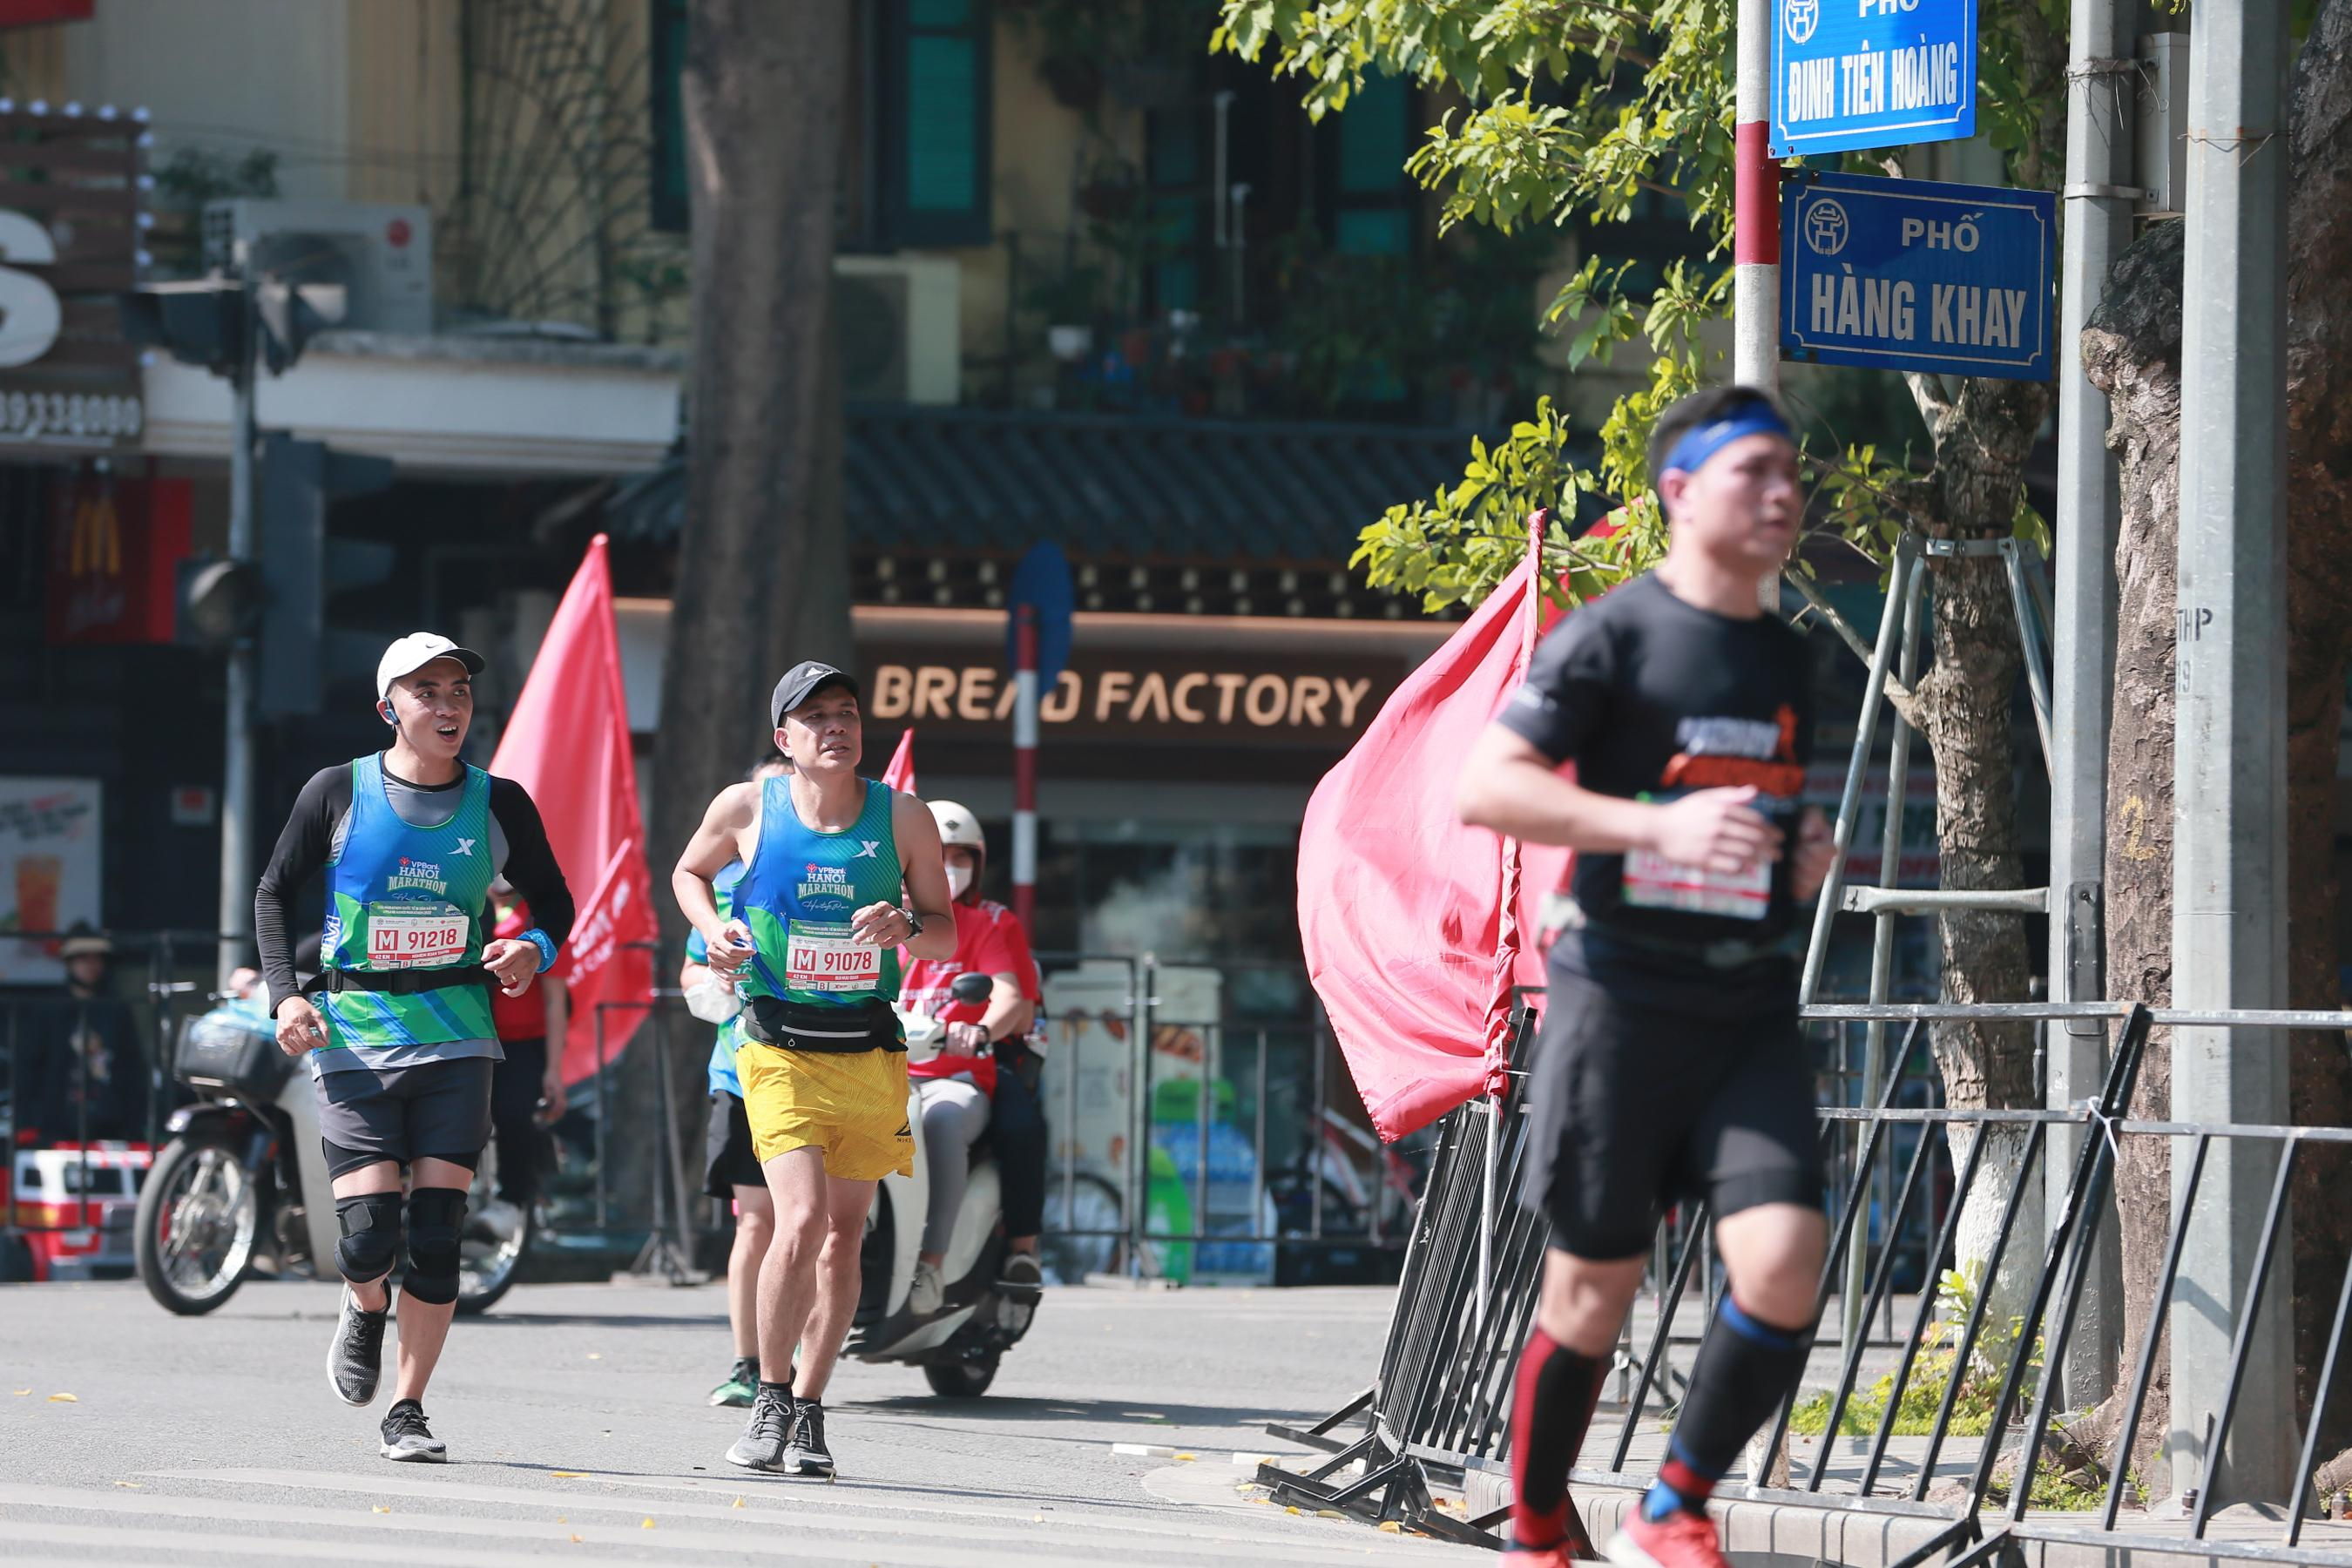bib: (1626, 791, 1771, 920), (366, 898, 467, 968), (786, 919, 880, 992)
